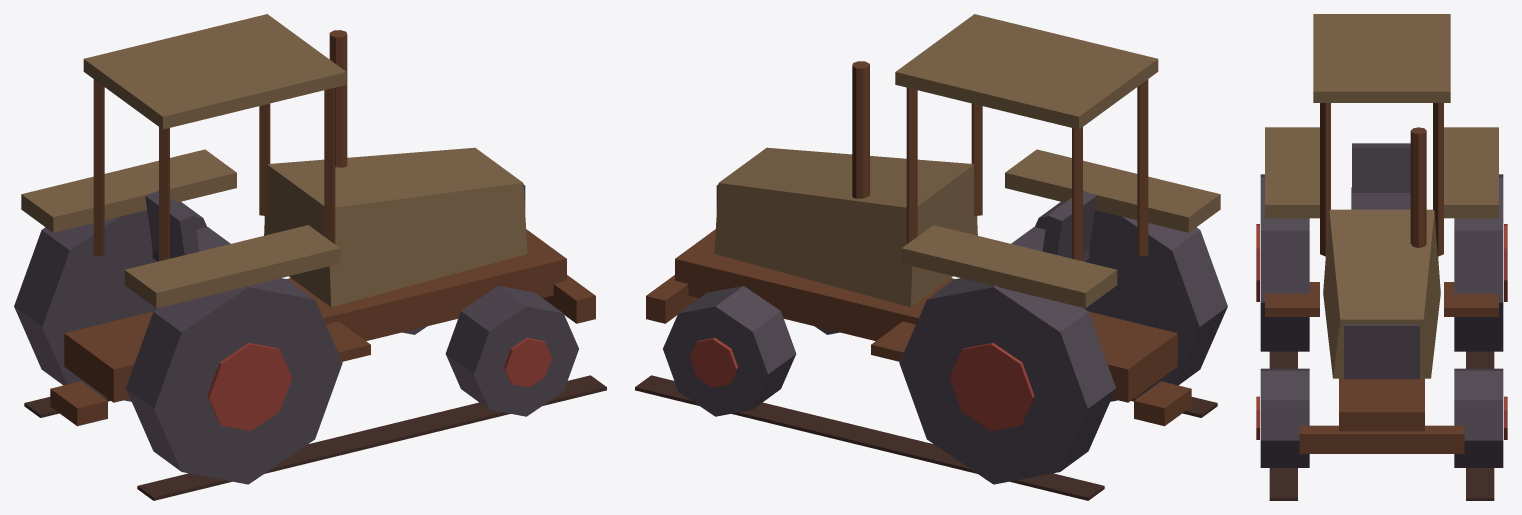
File: prop.farm-tractor.lod1.glb
3 renders of one model, left to right at view 1: azimuth 30°, elevation 25°; view 2: azimuth 150°, elevation 25°; view 3: azimuth 270°, elevation 25°, orthographic. The views are drawn at different scales.
Visible parts, largest first — view 1: body; view 2: body; view 3: body.
Part boxes in pixels (x1=…): body: x1=14, y1=14, x2=606, y2=500; body: x1=635, y1=14, x2=1227, y2=500; body: x1=1256, y1=14, x2=1507, y2=500.
Bounding box in the file's own units: 3.96 × 2.8 × 2.05.
